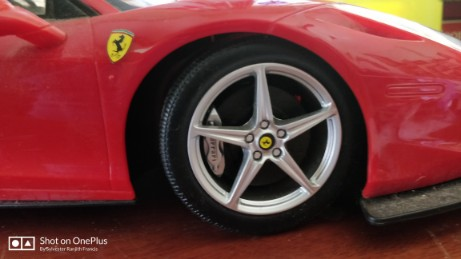unaligned_wheel: (130, 34, 366, 241)
